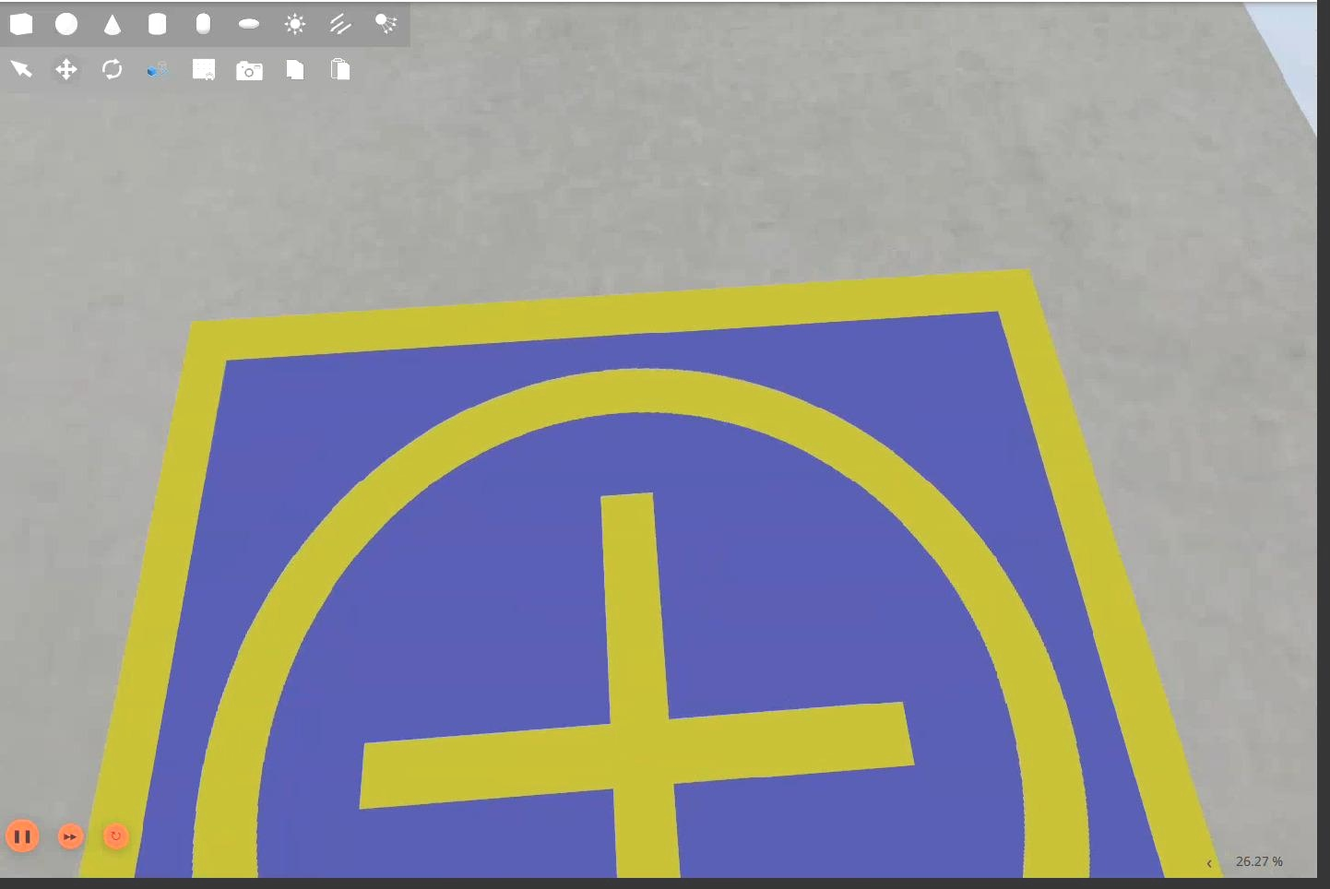small_base: (77, 266, 1226, 880)
